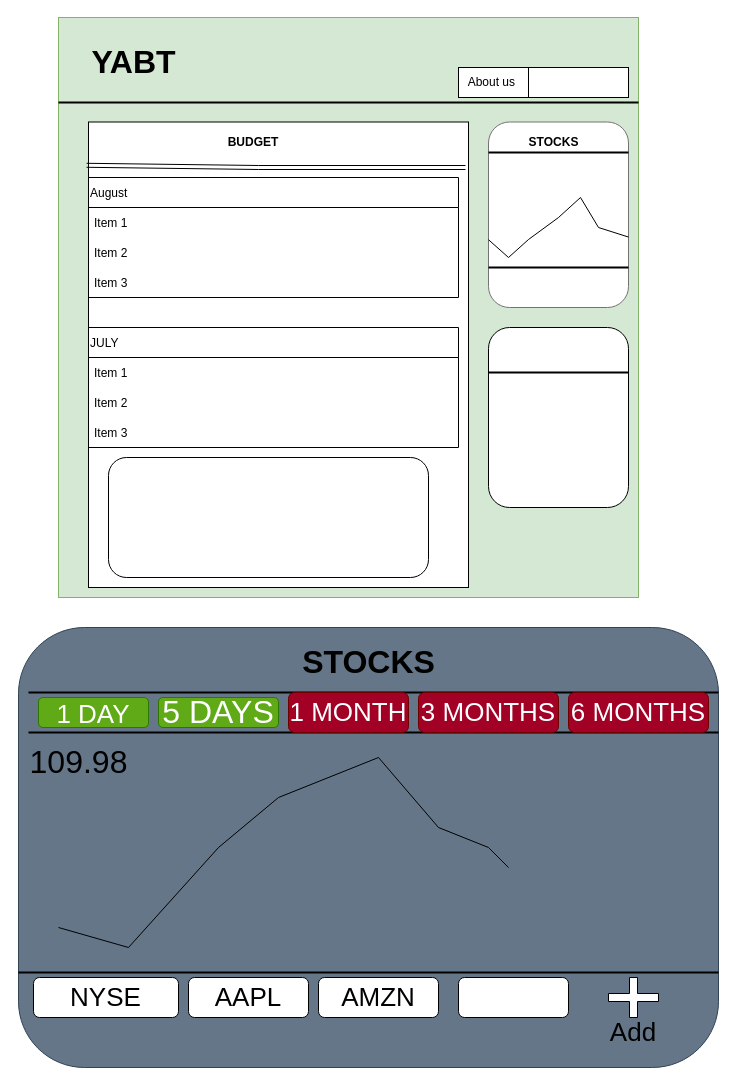
The diagram is 736 pixels wide and 1085 high, and some of its shapes have lost their labels. Here are the shapes that lost their labels. From the top down, the centre of each, then its label:
point (578, 82): Logout
point (558, 417): CRYPTO
point (268, 517): MONEY GOALS
